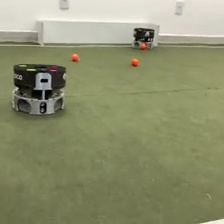ball: (130, 55, 139, 66), (70, 52, 79, 61), (139, 41, 147, 49)
goal: (34, 17, 160, 49)
robot: (9, 60, 68, 116), (131, 26, 156, 51)
